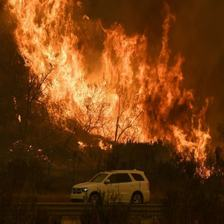fire: (4, 4, 213, 180)
